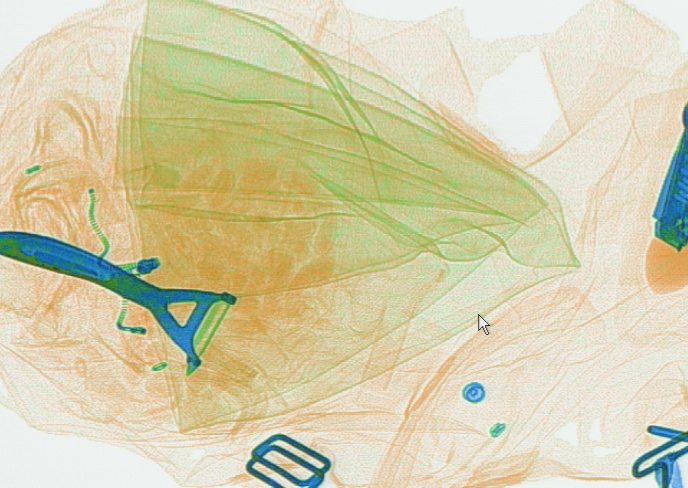knife: (647, 101, 686, 251)
